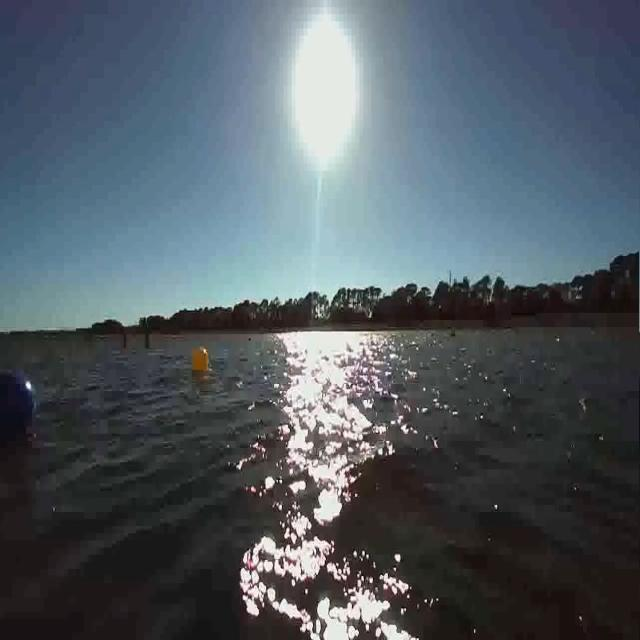blue-buoy: (0, 368, 36, 448)
green-column-buoy: (141, 321, 152, 352)
yellow-buoy: (192, 344, 211, 373)
